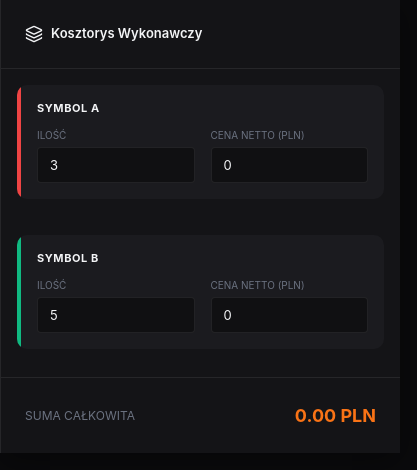
CostPanel › calculates total correctly after setting price for one symbol
Replace the text in the 2nd number field with "10" at [289, 165], box [210,147,368,183]
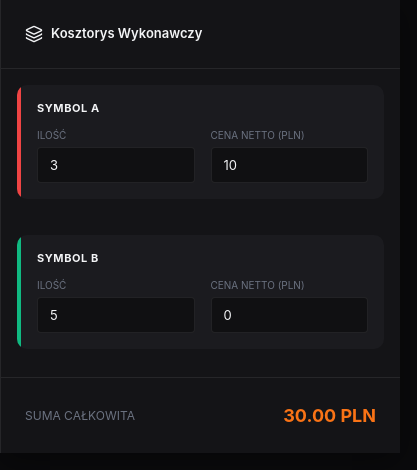
Check: the text "30.00 PLN" is shown, box [283,402,376,429]
